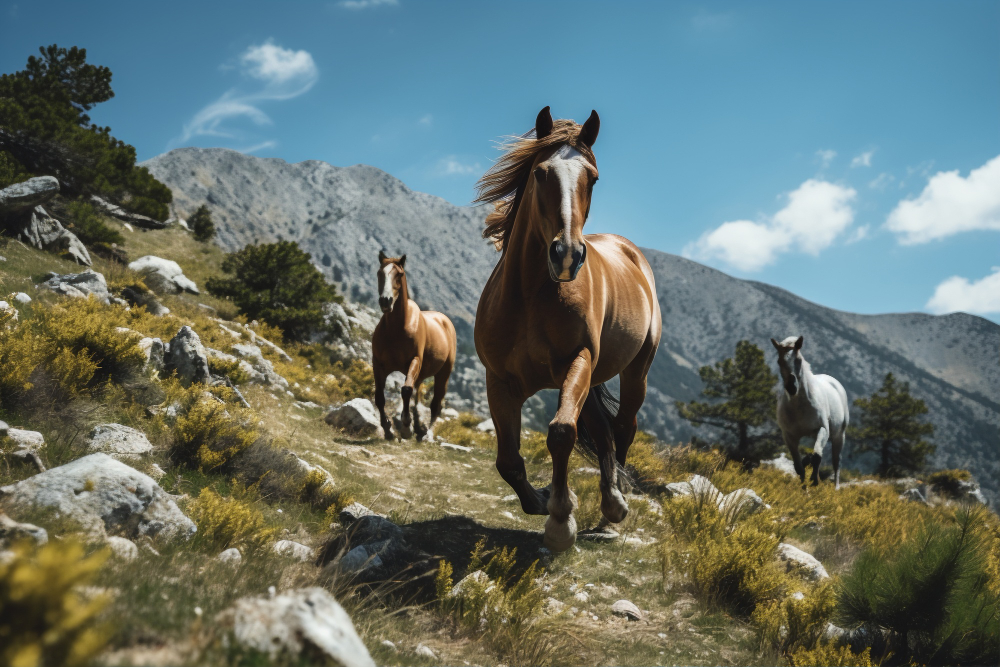Horse: (462, 103, 684, 560), (355, 252, 458, 447), (767, 330, 861, 488)
